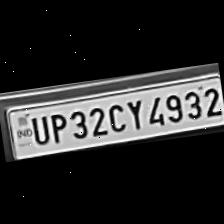2: (198, 82, 224, 119), (83, 102, 108, 138)
3: (64, 105, 90, 141), (179, 86, 202, 120)
4: (140, 91, 166, 128)
9: (160, 89, 184, 124)
C: (103, 98, 126, 133)
P: (44, 110, 68, 144)
U: (27, 111, 50, 146)
Y: (123, 95, 146, 131)
